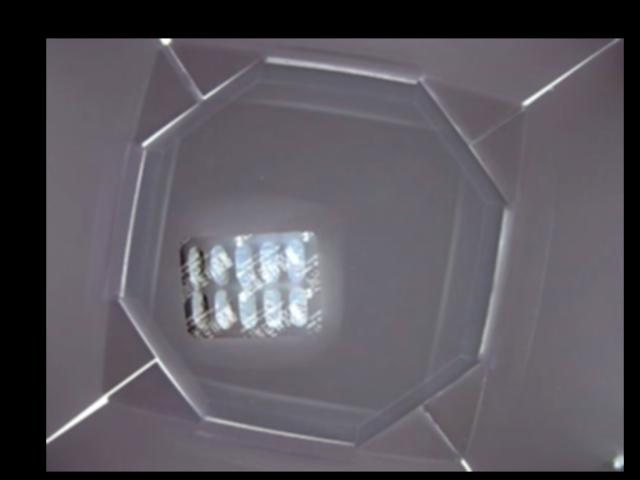Medicine: (177, 229, 325, 338)
